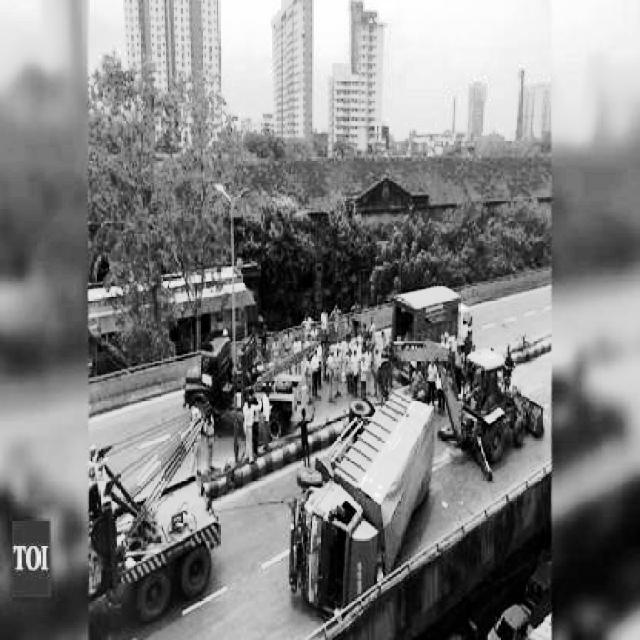HCV: (280, 437, 475, 607)
